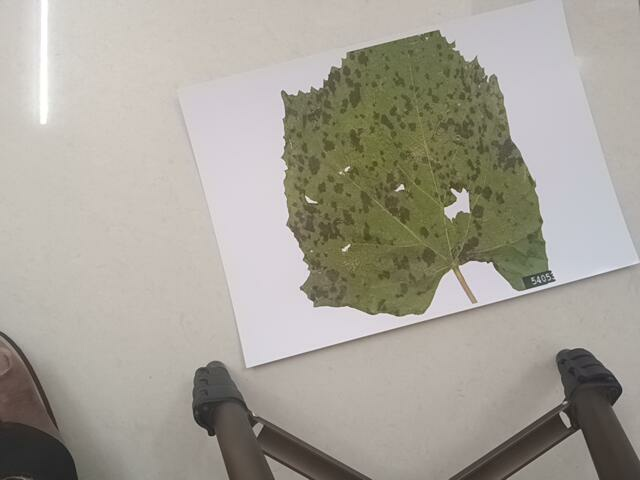Grape_Blight_Leaf: (274, 21, 571, 302)
